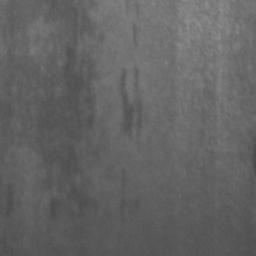Inclusion: (120, 68, 136, 138)
